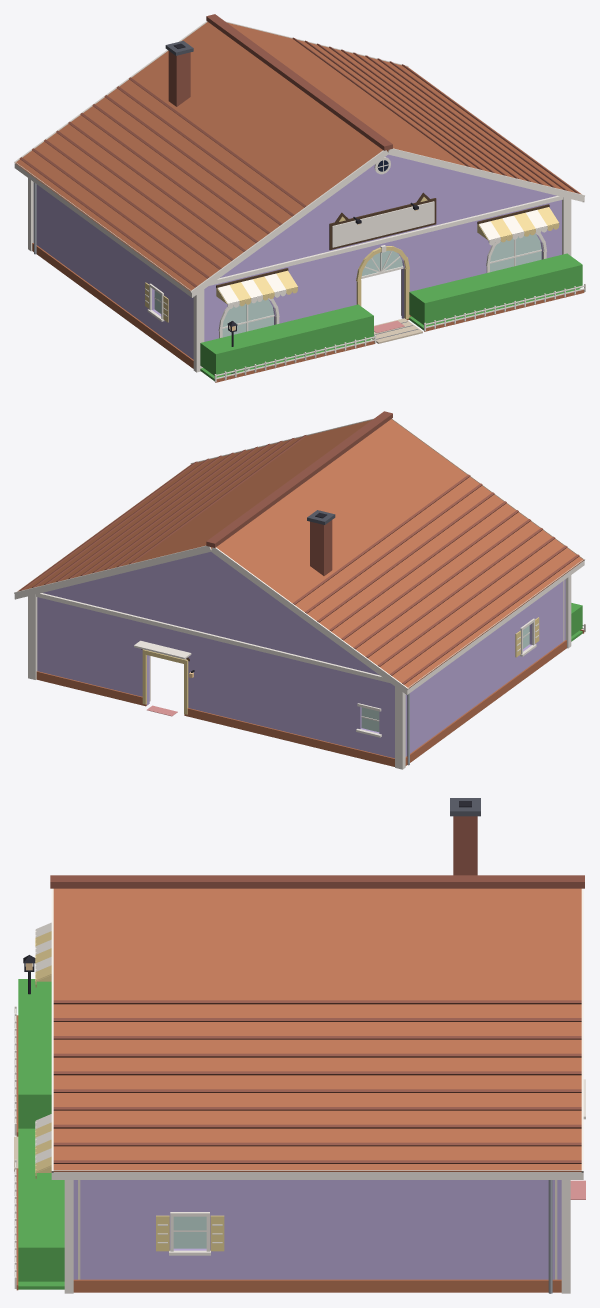
The model's file is CatCafe_Plot_Cafe_Lilac_56x43.glb.
3 views of the same model, one above another, from view 1: azimuth 30°, elevation 25°; view 2: azimuth 150°, elevation 25°; view 3: azimuth 270°, elevation 25° (orthographic). The views are drawn at different scales.
Parts seen in each view (by area): view 1: CatCafe_Plot_Cafe_Lilac_56x43_Roof, CatCafe_Plot_Cafe_Lilac_56x43_Paint, CatCafe_Plot_Cafe_Lilac_56x43_Fireflies, CatCafe_Plot_Cafe_Lilac_56x43_Trim, CatCafe_Plot_Cafe_Lilac_56x43_Roof_Trim, CatCafe_Plot_Cafe_Lilac_56x43_Awning, CatCafe_Plot_Cafe_Lilac_56x43_Glass, CatCafe_Plot_Cafe_Lilac_56x43, CatCafe_Plot_Cafe_Lilac_56x43_Garden, CatCafe_Plot_Cafe_Lilac_56x43_SignBoard, CatCafe_Plot_Cafe_Lilac_56x43_Flowers, CatCafe_Plot_Cafe_Lilac_56x43_Path; view 2: CatCafe_Plot_Cafe_Lilac_56x43_Roof, CatCafe_Plot_Cafe_Lilac_56x43_Paint, CatCafe_Plot_Cafe_Lilac_56x43_Trim, CatCafe_Plot_Cafe_Lilac_56x43_Roof_Trim, CatCafe_Plot_Cafe_Lilac_56x43, CatCafe_Plot_Cafe_Lilac_56x43_Glass; view 3: CatCafe_Plot_Cafe_Lilac_56x43_Roof, CatCafe_Plot_Cafe_Lilac_56x43_Paint, CatCafe_Plot_Cafe_Lilac_56x43_Fireflies, CatCafe_Plot_Cafe_Lilac_56x43, CatCafe_Plot_Cafe_Lilac_56x43_Roof_Trim, CatCafe_Plot_Cafe_Lilac_56x43_Trim, CatCafe_Plot_Cafe_Lilac_56x43_Awning, CatCafe_Plot_Cafe_Lilac_56x43_Garden, CatCafe_Plot_Cafe_Lilac_56x43_Glass.
Boxes of the visible parts, x1,y1,x2,y2 form: CatCafe_Plot_Cafe_Lilac_56x43_Roof: (15,14,581,291); CatCafe_Plot_Cafe_Lilac_56x43_Paint: (33,154,561,359); CatCafe_Plot_Cafe_Lilac_56x43_Fireflies: (200,253,582,376); CatCafe_Plot_Cafe_Lilac_56x43_Trim: (28,157,571,372); CatCafe_Plot_Cafe_Lilac_56x43_Roof_Trim: (14,21,584,297); CatCafe_Plot_Cafe_Lilac_56x43_Awning: (216,207,559,308); CatCafe_Plot_Cafe_Lilac_56x43_Glass: (154,234,541,337); CatCafe_Plot_Cafe_Lilac_56x43: (32,160,541,368); CatCafe_Plot_Cafe_Lilac_56x43_Garden: (214,284,585,382); CatCafe_Plot_Cafe_Lilac_56x43_SignBoard: (332,201,434,247); CatCafe_Plot_Cafe_Lilac_56x43_Flowers: (200,288,580,380); CatCafe_Plot_Cafe_Lilac_56x43_Path: (372,318,422,343); CatCafe_Plot_Cafe_Lilac_56x43_Roof: (17,411,583,688); CatCafe_Plot_Cafe_Lilac_56x43_Paint: (37,552,565,758); CatCafe_Plot_Cafe_Lilac_56x43_Trim: (28,575,571,769); CatCafe_Plot_Cafe_Lilac_56x43_Roof_Trim: (14,418,585,694); CatCafe_Plot_Cafe_Lilac_56x43: (36,617,566,766); CatCafe_Plot_Cafe_Lilac_56x43_Glass: (361,625,529,732); CatCafe_Plot_Cafe_Lilac_56x43_Roof: (50,798,584,1171); CatCafe_Plot_Cafe_Lilac_56x43_Paint: (73,1180,561,1279); CatCafe_Plot_Cafe_Lilac_56x43_Fireflies: (18,979,64,1281); CatCafe_Plot_Cafe_Lilac_56x43: (73,1180,585,1293); CatCafe_Plot_Cafe_Lilac_56x43_Roof_Trim: (51,888,583,1179); CatCafe_Plot_Cafe_Lilac_56x43_Trim: (64,1079,585,1293); CatCafe_Plot_Cafe_Lilac_56x43_Awning: (35,922,51,1178); CatCafe_Plot_Cafe_Lilac_56x43_Garden: (14,955,35,1290); CatCafe_Plot_Cafe_Lilac_56x43_Glass: (173,1216,206,1248).
Size of the model in its own units: 61.86 by 30.06 by 51.8.
1 material, 1 textured.
